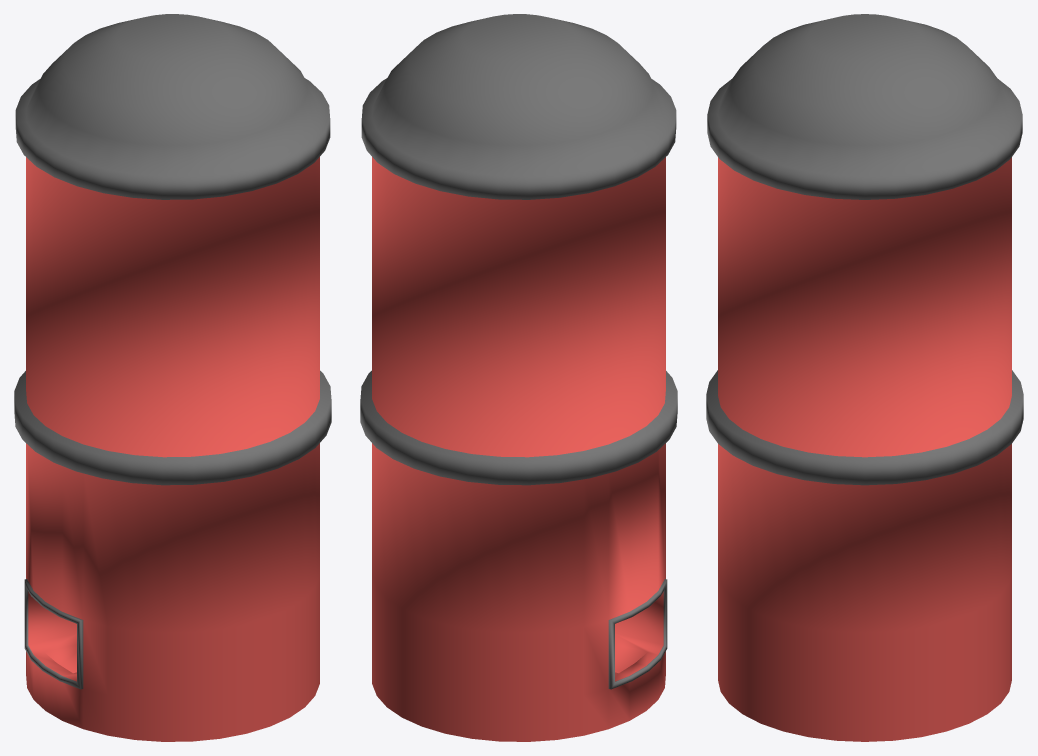
The model's file is silo.fbx.
3 renders of one model, left to right at view 1: azimuth 30°, elevation 25°; view 2: azimuth 150°, elevation 25°; view 3: azimuth 270°, elevation 25°, orthographic.
Parts seen in each view (by area): view 1: silo; view 2: silo; view 3: silo.
Part boxes in pixels (bbox=[...]): silo: bbox=[14, 14, 331, 741]; silo: bbox=[360, 14, 677, 741]; silo: bbox=[706, 14, 1023, 741].
Size of the model in its own units: 1815 by 4045 by 1815.
